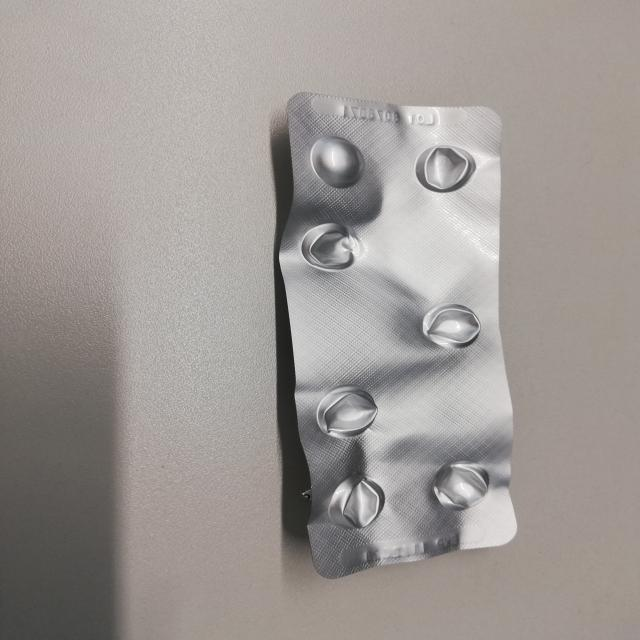Empty: (312, 385, 382, 441), (326, 470, 386, 531), (413, 142, 479, 194), (298, 221, 365, 271), (419, 299, 482, 350), (430, 459, 490, 512)
Pill: (308, 134, 368, 190)
